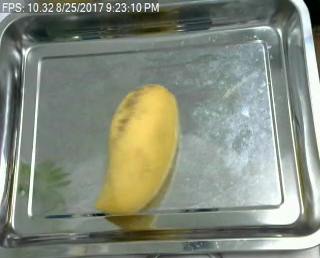Mango: (97, 84, 181, 216)
